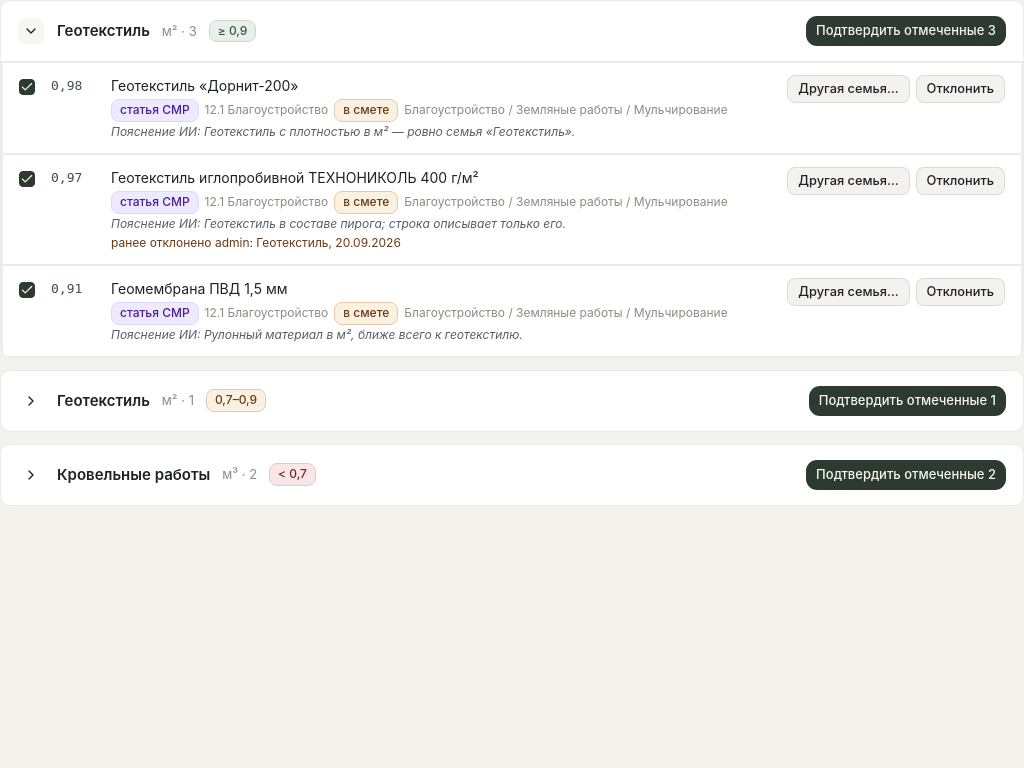
Test: SuggestionGroups — отметки и «Подтвердить отмеченные N» › снятые отметки остаются в группе, тост говорит об этом числом
Click the checkbox named "Отметить строку" next to "0,98": [27, 87] box [19,79,35,95]
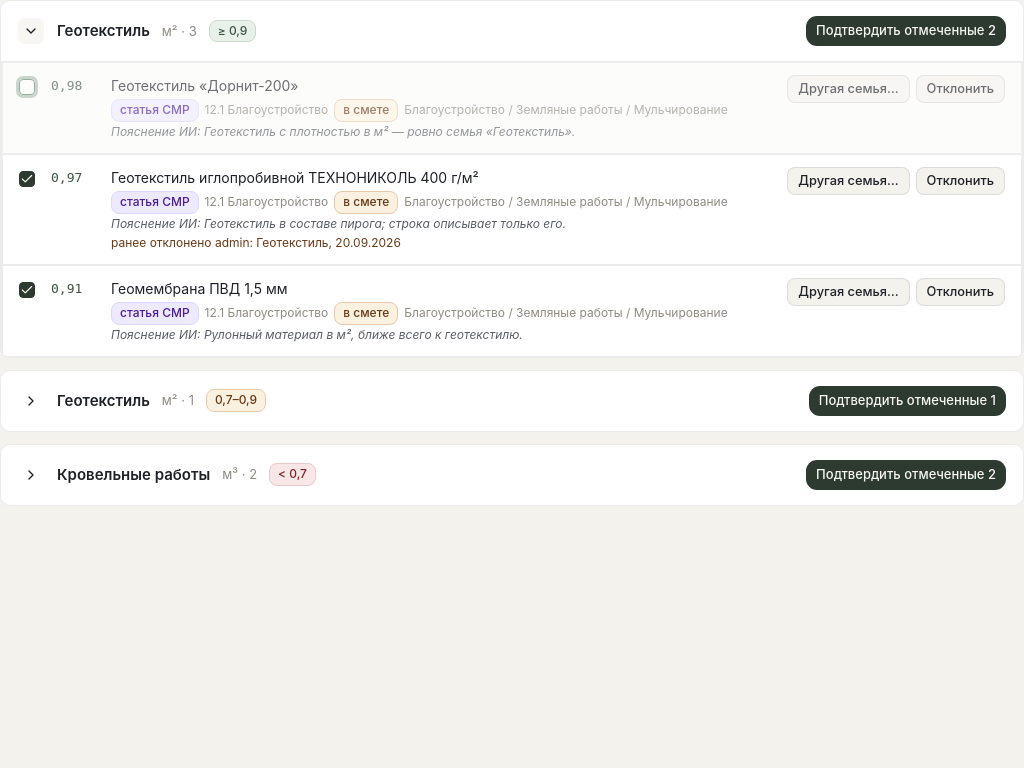
Click the button "Подтвердить отмеченные 2" in the row of "≥ 0,9": [906, 31] box [805,15,1007,47]
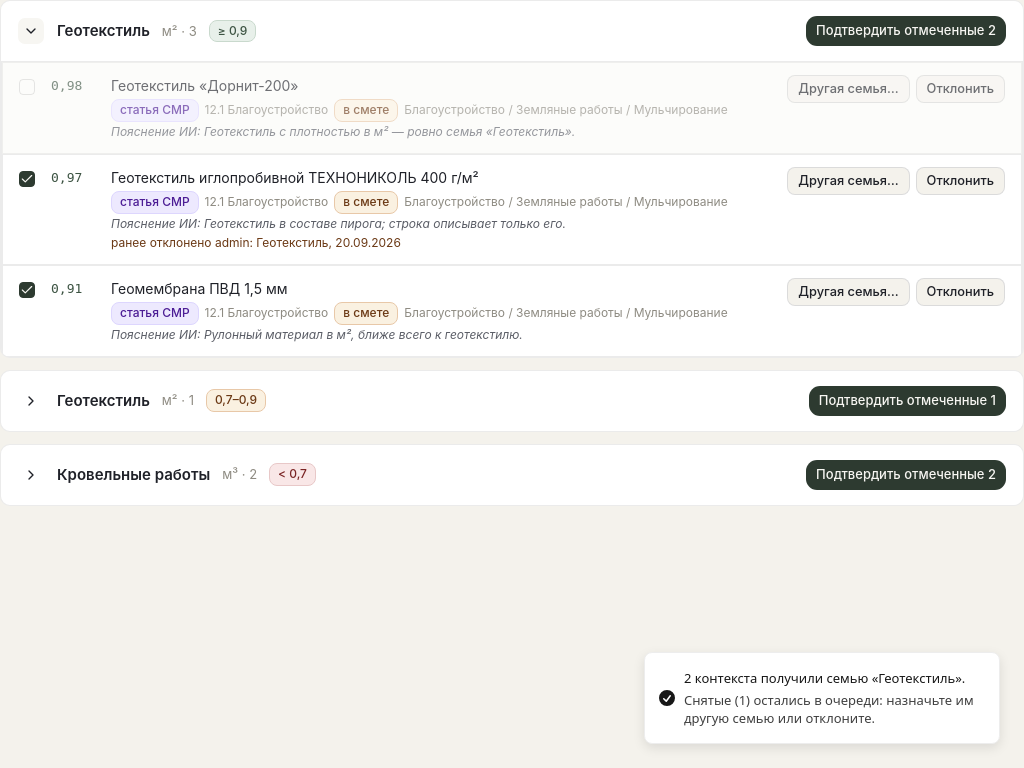
Expected: the text "2 контекста получили семью «Геотекстиль»." is shown, [684,669,983,689]
